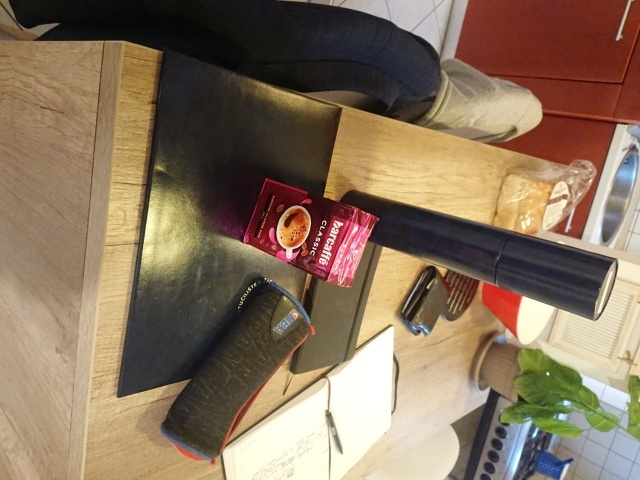Barcaffe Classic Original 225g: (239, 174, 382, 291)
